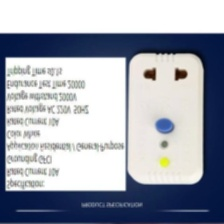three_eye_plug: (124, 50, 206, 186)
